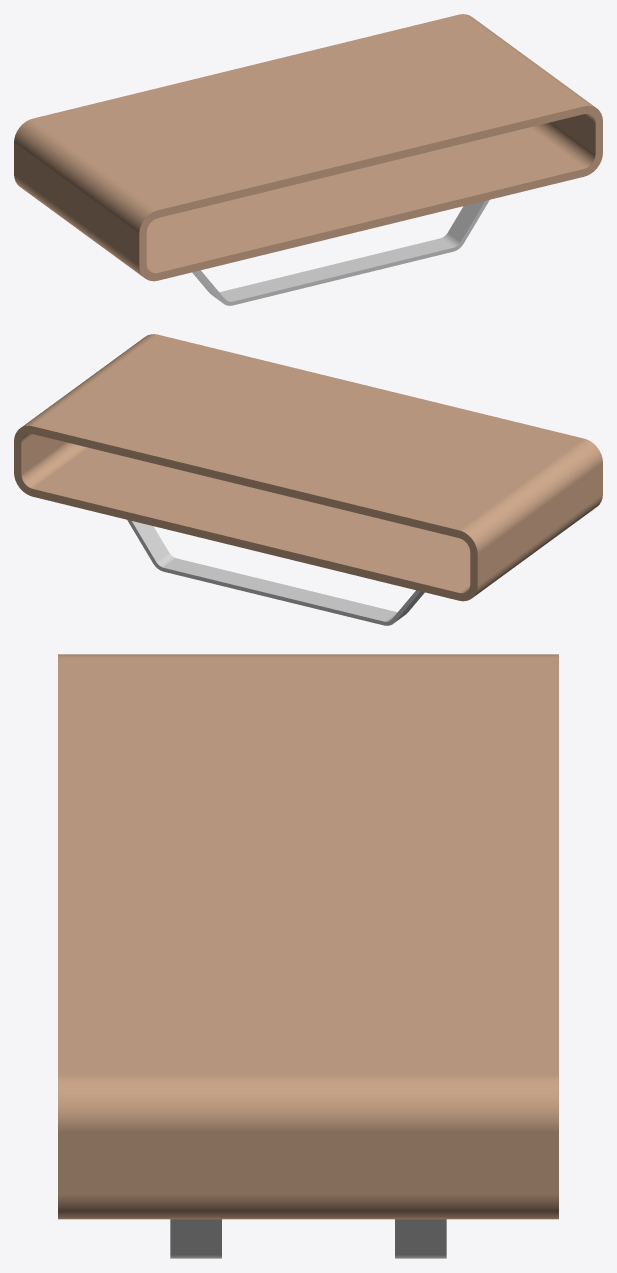
The model's file is 402_センターテーブル.glb.
3 renders of one model, top to bottom at view 1: azimuth 30°, elevation 25°; view 2: azimuth 150°, elevation 25°; view 3: azimuth 270°, elevation 25°, orthographic. The views are drawn at different scales.
Visible parts, largest first — view 1: 402_センターテーブル; view 2: 402_センターテーブル; view 3: 402_センターテーブル.
Boxes of the visible parts, x1,y1,x2,y2 form: 402_センターテーブル: [14, 14, 602, 305]; 402_センターテーブル: [14, 334, 602, 625]; 402_センターテーブル: [58, 654, 558, 1258].
Size of the model in its own units: 1.24 by 0.36 by 0.58.
